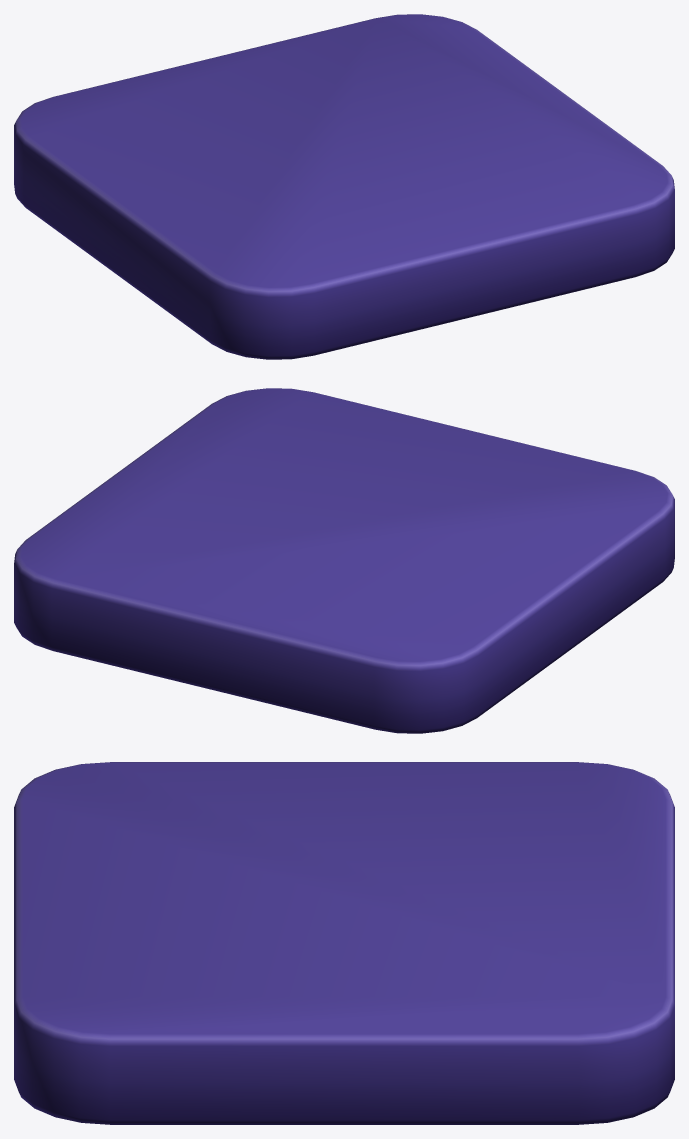
File: Platform.fbx
The picture shows the model from 3 angles, top to bottom: view 1: azimuth 30°, elevation 25°; view 2: azimuth 150°, elevation 25°; view 3: azimuth 270°, elevation 25°; orthographic projection. The views are drawn at different scales.
Visible parts, largest first — view 1: Platform; view 2: Platform; view 3: Platform.
Part boxes in pixels (x1,y1,x2,y2): Platform: (14, 14, 674, 359); Platform: (14, 388, 674, 733); Platform: (14, 762, 674, 1124).
Bounding box in the file's own units: 0.6141 × 0.0928 × 0.6141.
